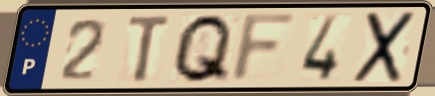2: (58, 17, 108, 82)
4: (298, 11, 345, 84)
F: (226, 10, 303, 86)
Q: (168, 12, 236, 86)
T: (125, 13, 175, 85)
X: (349, 9, 419, 86)
